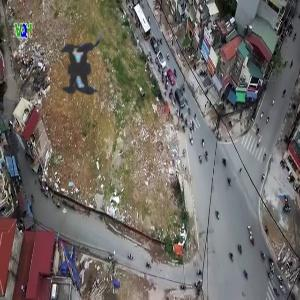drone: (13, 7, 146, 140)
